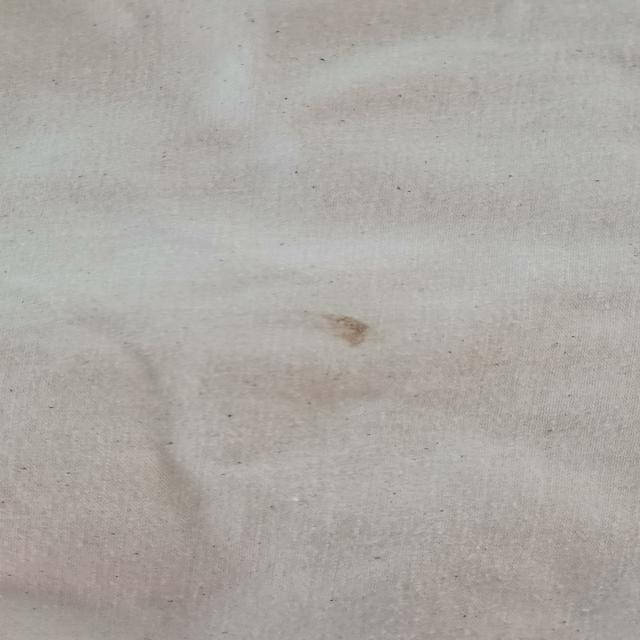taaaches: (280, 304, 420, 357)
